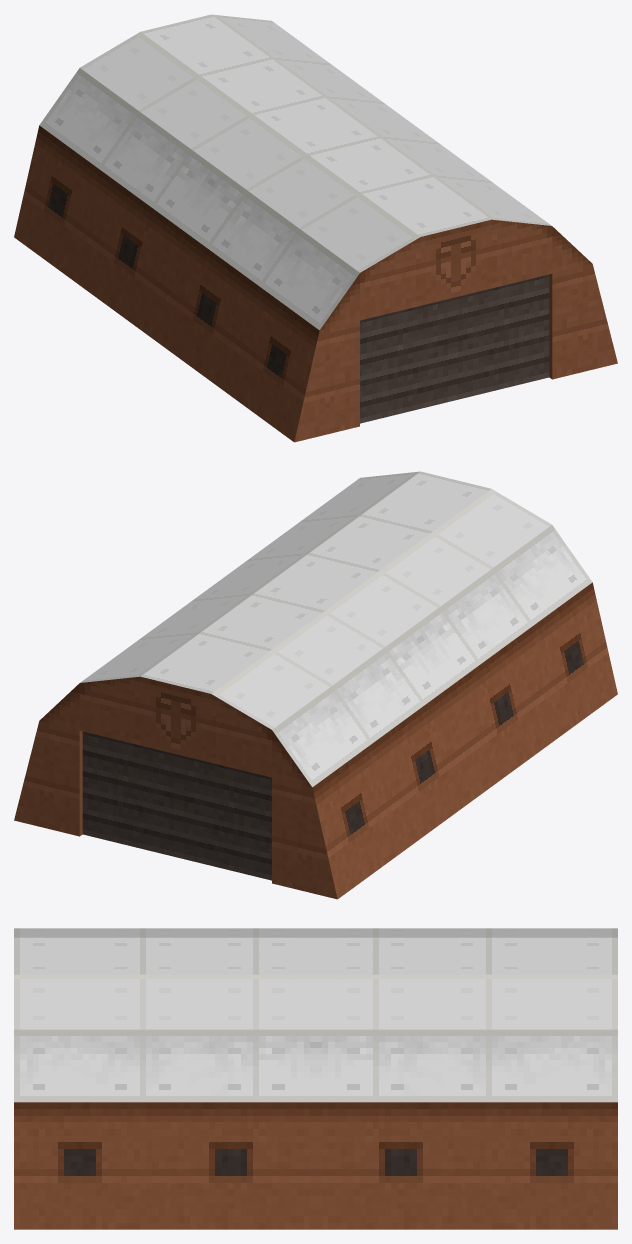
File: hanger.fbx
3 views of the same model, one above another, from view 1: azimuth 30°, elevation 25°; view 2: azimuth 150°, elevation 25°; view 3: azimuth 270°, elevation 25° (orthographic). The views are drawn at different scales.
Parts seen in each view (by area): view 1: pCube5; view 2: pCube5; view 3: pCube5.
Boxes of the visible parts, x1=… form: pCube5: x1=14, y1=14, x2=617, y2=442; pCube5: x1=14, y1=471, x2=617, y2=899; pCube5: x1=14, y1=928, x2=617, y2=1229.
Bounding box in the file's own units: 4 × 2.06 × 6.
Materials: 1 (1 with a texture image).
